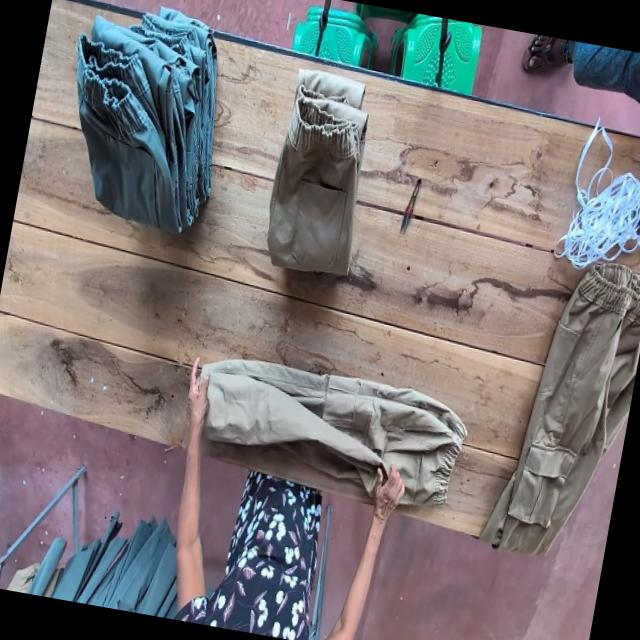new-garment: (204, 359, 465, 503)
